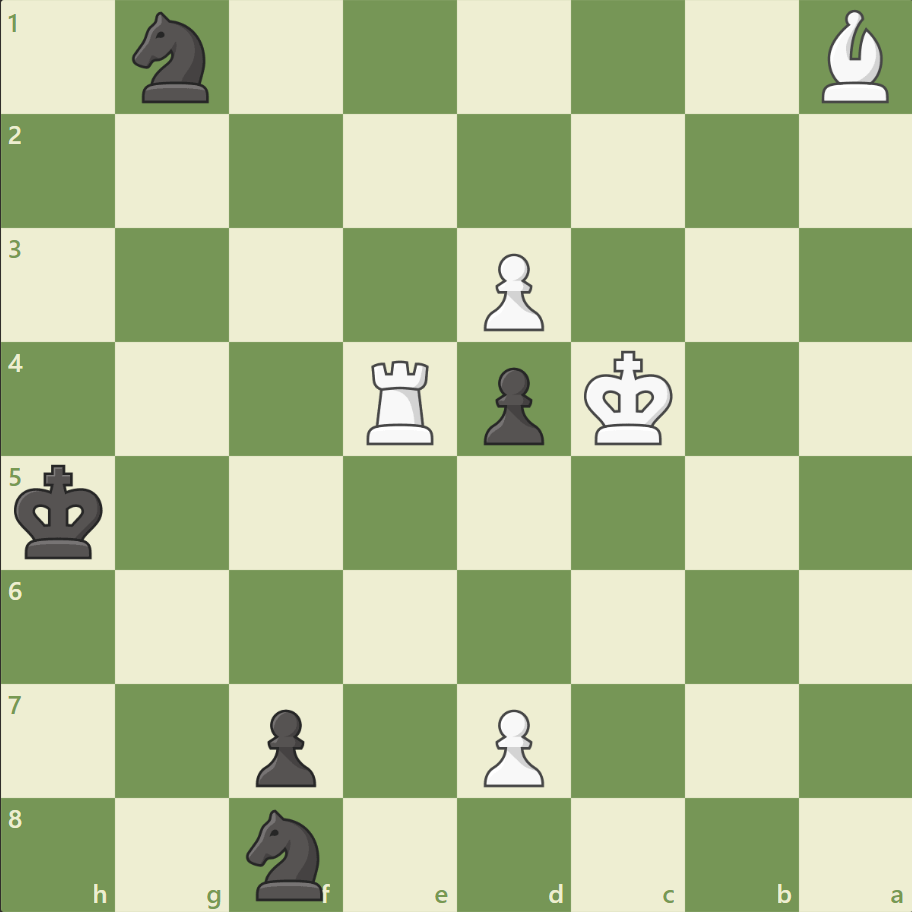B: (812, 6, 896, 109)
K: (579, 344, 679, 452)
P: (474, 700, 549, 791), (474, 246, 549, 337)
R: (360, 352, 442, 449)
k: (11, 458, 111, 566)
n: (124, 7, 222, 110), (238, 802, 335, 904)
p: (247, 700, 322, 791), (474, 359, 549, 450)
